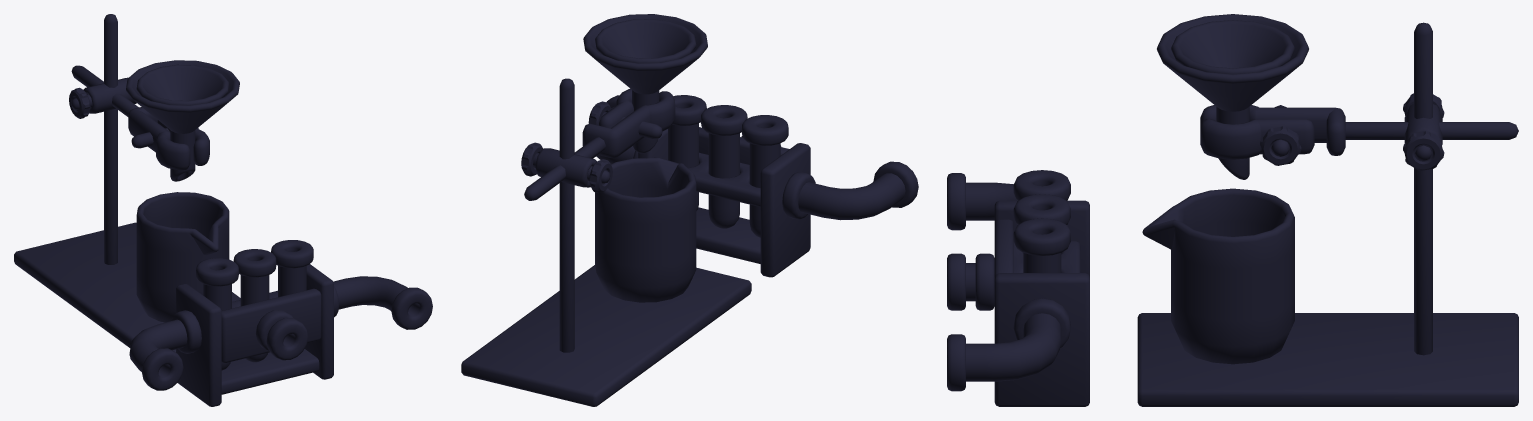
The model's file is Constructing_Filter.fbx.
3 views of the same model, side by side, from view 1: azimuth 30°, elevation 25°; view 2: azimuth 150°, elevation 25°; view 3: azimuth 270°, elevation 25° (orthographic). The views are drawn at different scales.
Visible parts, largest first — view 1: Stand_Base001; view 2: Stand_Base001; view 3: Stand_Base001.
Boxes of the visible parts, x1,y1,x2,y2 form: Stand_Base001: [14, 14, 432, 406]; Stand_Base001: [461, 14, 918, 406]; Stand_Base001: [947, 14, 1518, 406].
Bounding box in the file's own units: 230 × 200 × 300.
